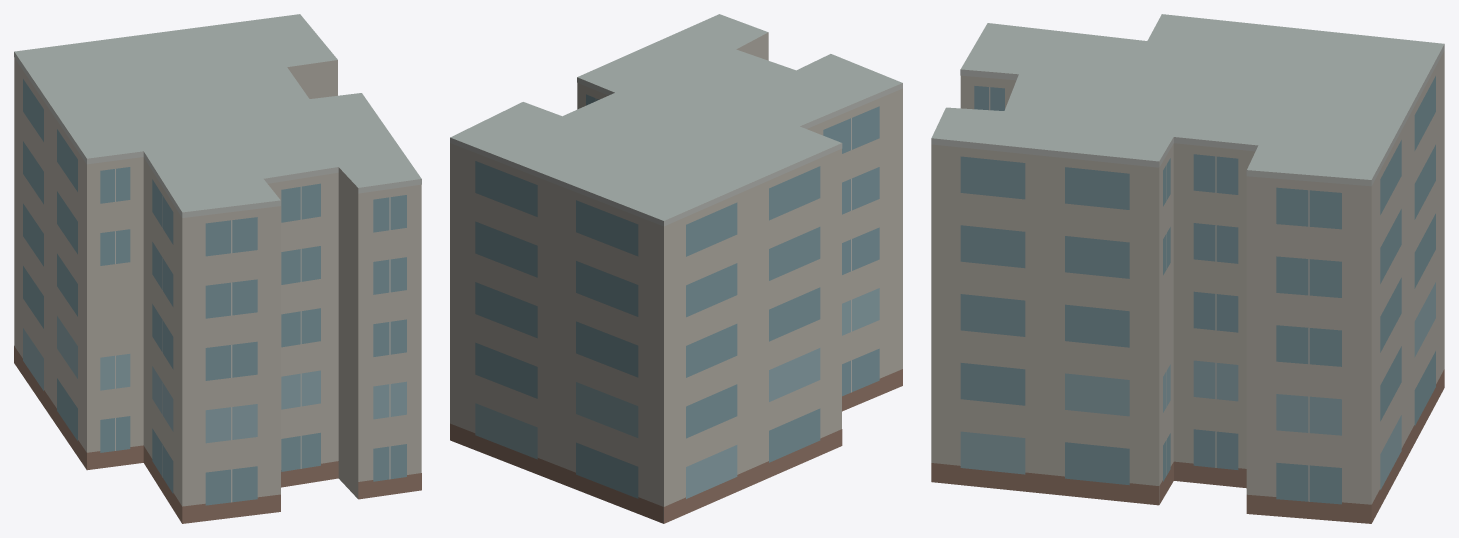
Rendered from survey-upis-32689100.glb.
3 views of the same model, side by side, from view 1: azimuth 30°, elevation 25°; view 2: azimuth 150°, elevation 25°; view 3: azimuth 270°, elevation 25° (orthographic). The views are drawn at different scales.
Parts seen in each view (by area): view 1: survey-upis-32689100.tmp; view 2: survey-upis-32689100.tmp; view 3: survey-upis-32689100.tmp.
Boxes of the visible parts, x1,y1,x2,y2 form: survey-upis-32689100.tmp: (14,14,421,523); survey-upis-32689100.tmp: (450,14,902,523); survey-upis-32689100.tmp: (931,14,1444,523).
Size of the model in its own units: 13.89 by 13.4 by 18.14.
